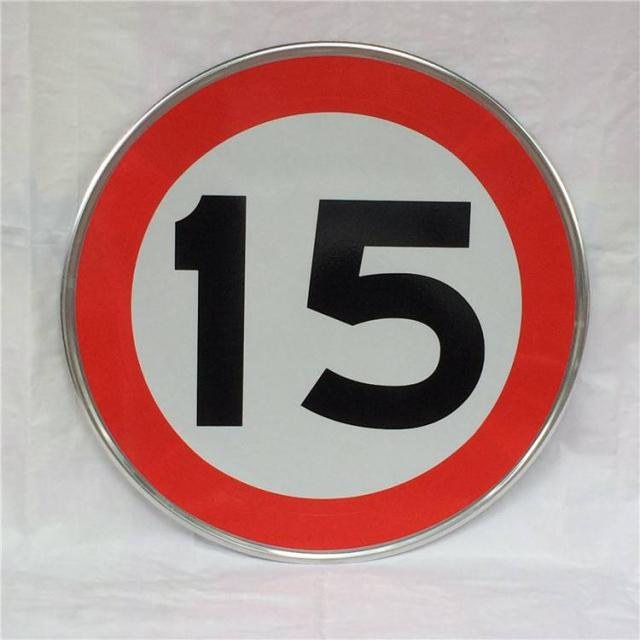speed limit 20: (60, 42, 591, 561)
